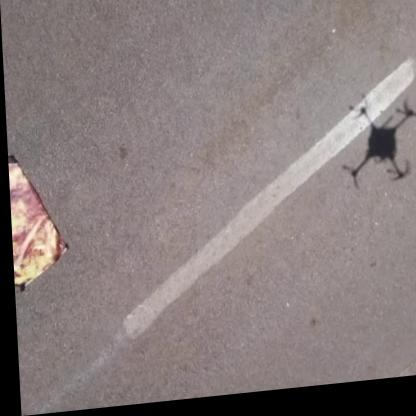fire-poster: (6, 149, 68, 296)
